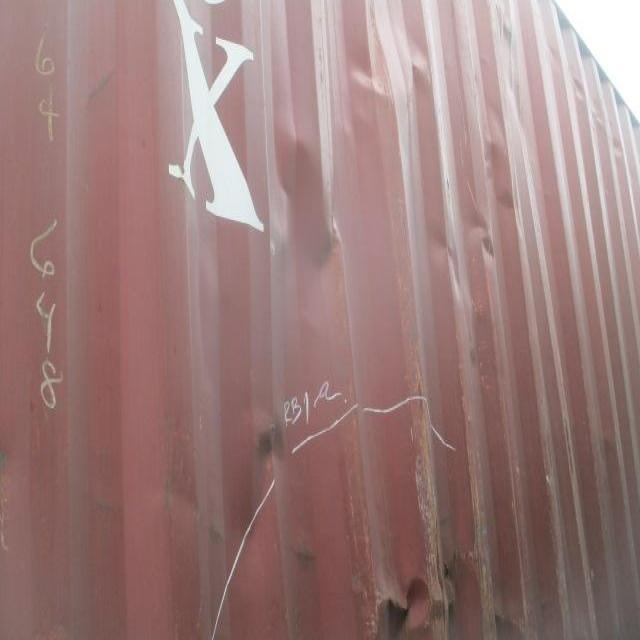dent: (350, 550, 536, 640)
